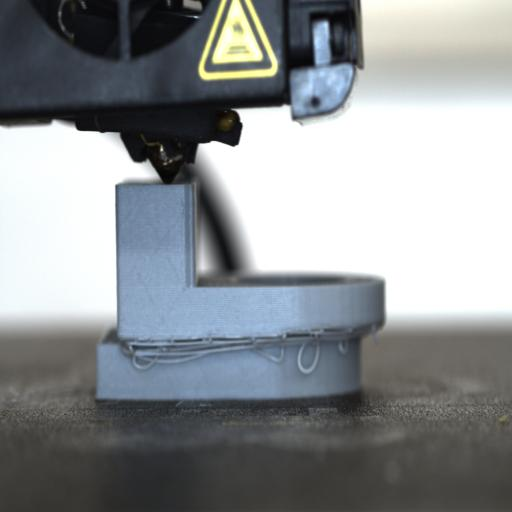layer_shift: (98, 324, 388, 352)
